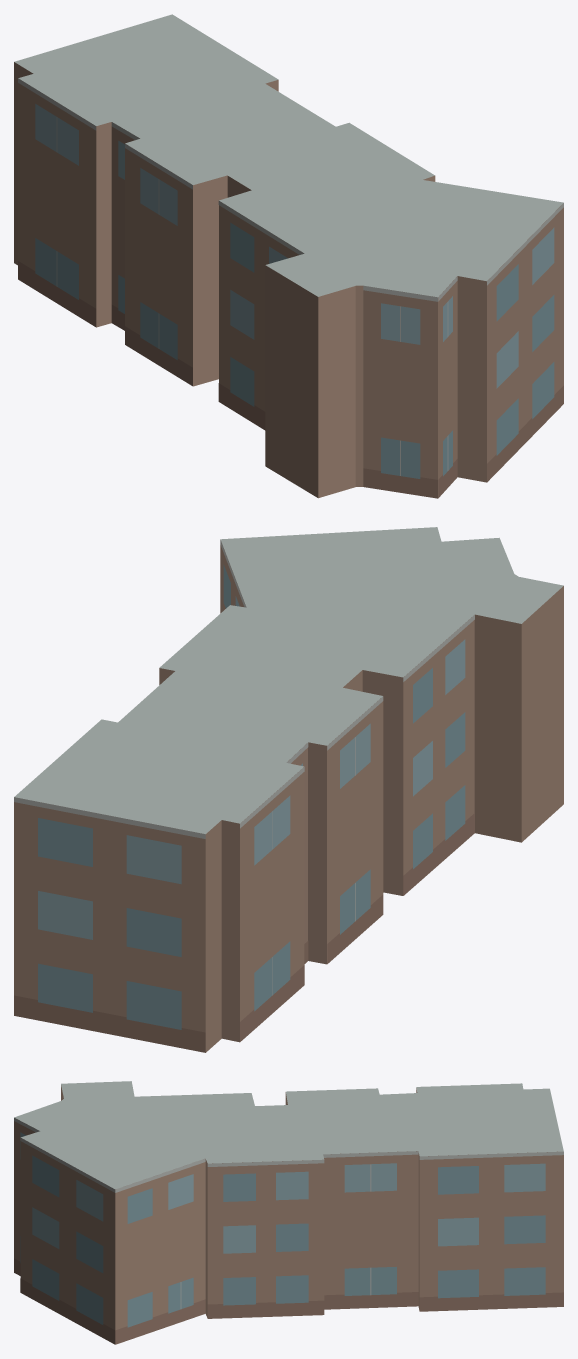
File: survey-upis-32968256.glb
3 views of the same model, one above another, from view 1: azimuth 30°, elevation 25°; view 2: azimuth 150°, elevation 25°; view 3: azimuth 270°, elevation 25° (orthographic). The views are drawn at different scales.
Visible parts, largest first — view 1: survey-upis-32968256.tmp; view 2: survey-upis-32968256.tmp; view 3: survey-upis-32968256.tmp.
Part boxes in pixels (<box>): survey-upis-32968256.tmp: <box>14,14,563,498</box>; survey-upis-32968256.tmp: <box>14,527,563,1052</box>; survey-upis-32968256.tmp: <box>14,1081,563,1344</box>.
Bounding box in the file's own units: 16.02 × 10.7 × 34.34.
